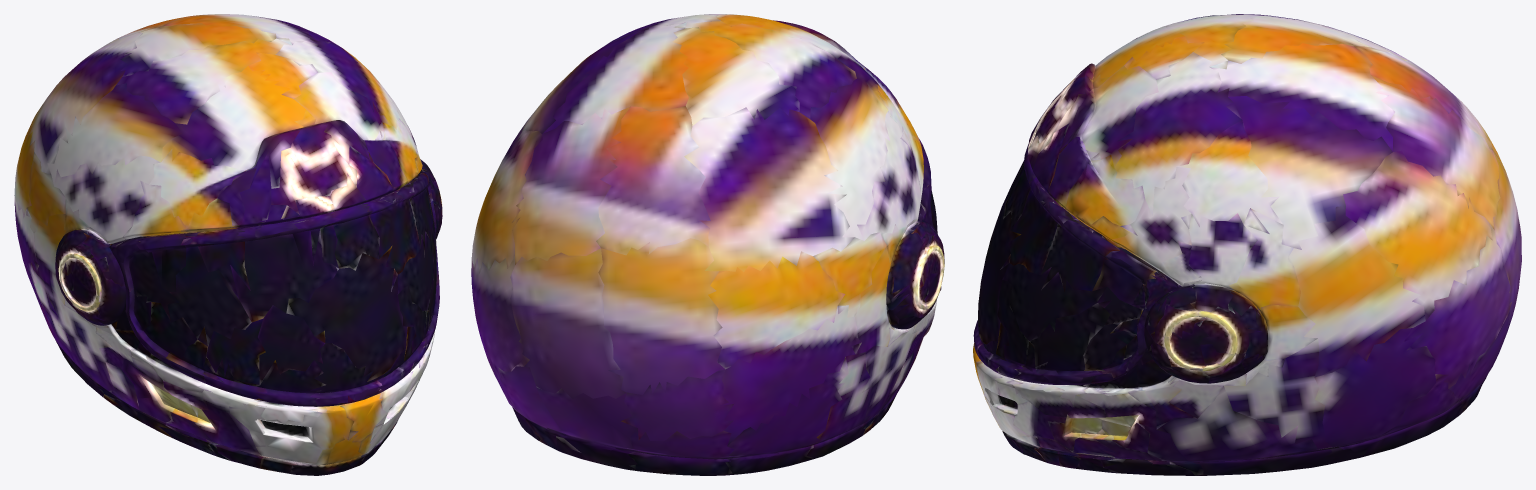
The model's file is helmet.glb.
The picture shows the model from 3 angles, left to right: view 1: azimuth 30°, elevation 25°; view 2: azimuth 150°, elevation 25°; view 3: azimuth 270°, elevation 25°; orthographic projection. The views are drawn at different scales.
Parts seen in each view (by area): view 1: Shell; view 2: Shell; view 3: Shell.
Boxes of the visible parts, x1,y1,x2,y2 form: Shell: (14,14,442,475); Shell: (471,14,944,475); Shell: (973,14,1521,475).
Size of the model in its own units: 0.5996 by 0.5694 by 0.7108.
Materials: 1 (1 with a texture image).
